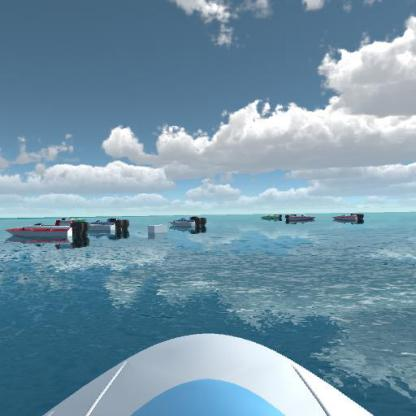usv0: (54, 211, 88, 227), (258, 210, 286, 222)
usv1: (85, 212, 131, 237), (166, 212, 210, 235)
usv3: (5, 219, 90, 249), (328, 210, 364, 225), (286, 210, 316, 226)
